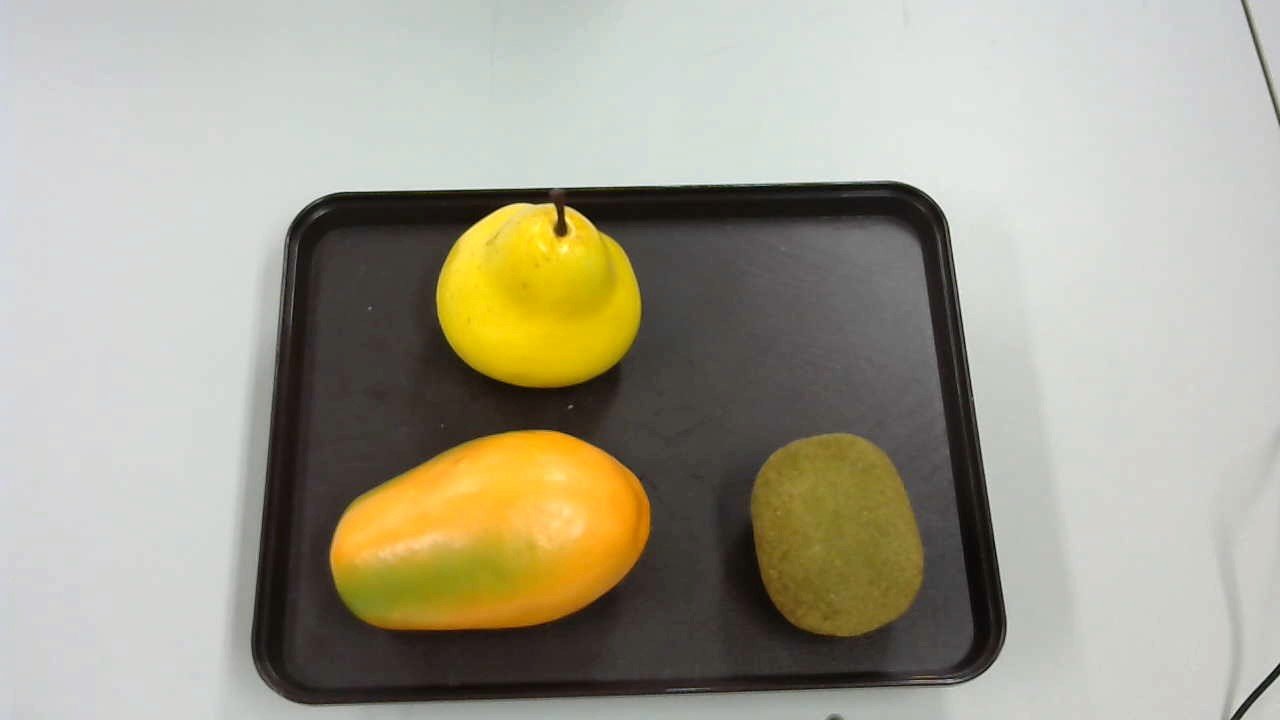kiwi fruit: (744, 433, 925, 638)
papya: (318, 426, 660, 634)
yellow pear: (434, 198, 642, 387)
